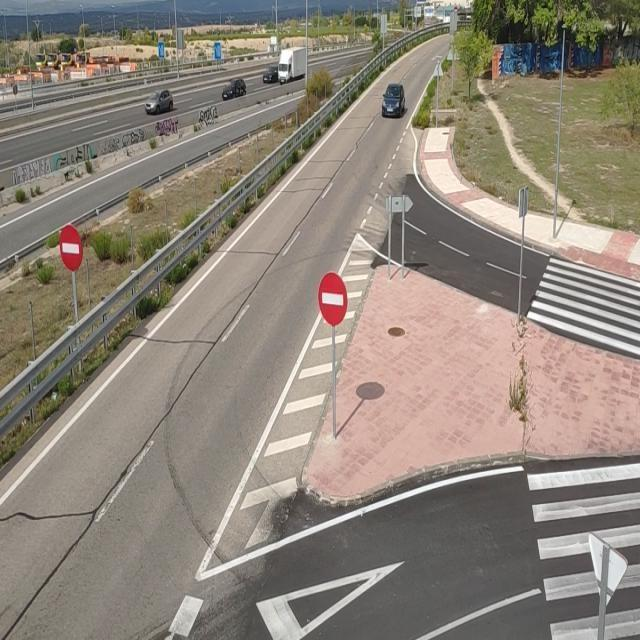Car: (139, 88, 177, 114), (379, 84, 406, 120), (221, 73, 245, 102), (263, 63, 281, 84)
Truck: (278, 47, 309, 84)
